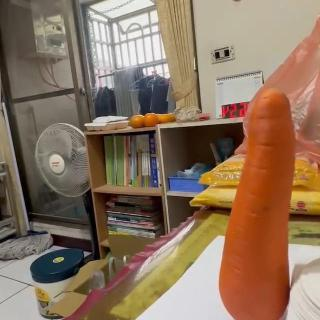carrot: (218, 89, 294, 320)
